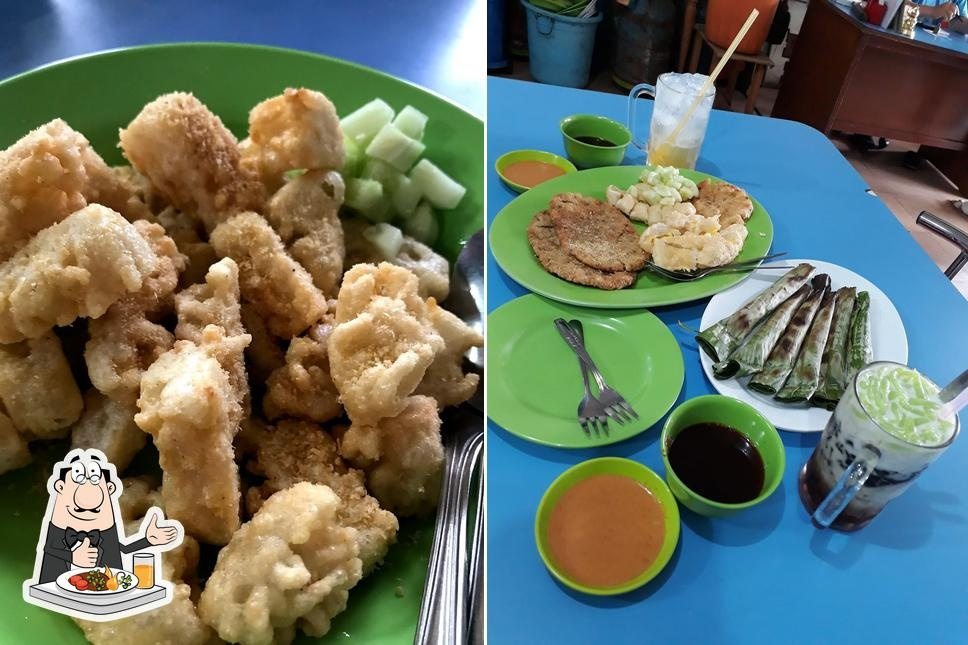pempek: (2, 89, 418, 645), (526, 167, 744, 285)
